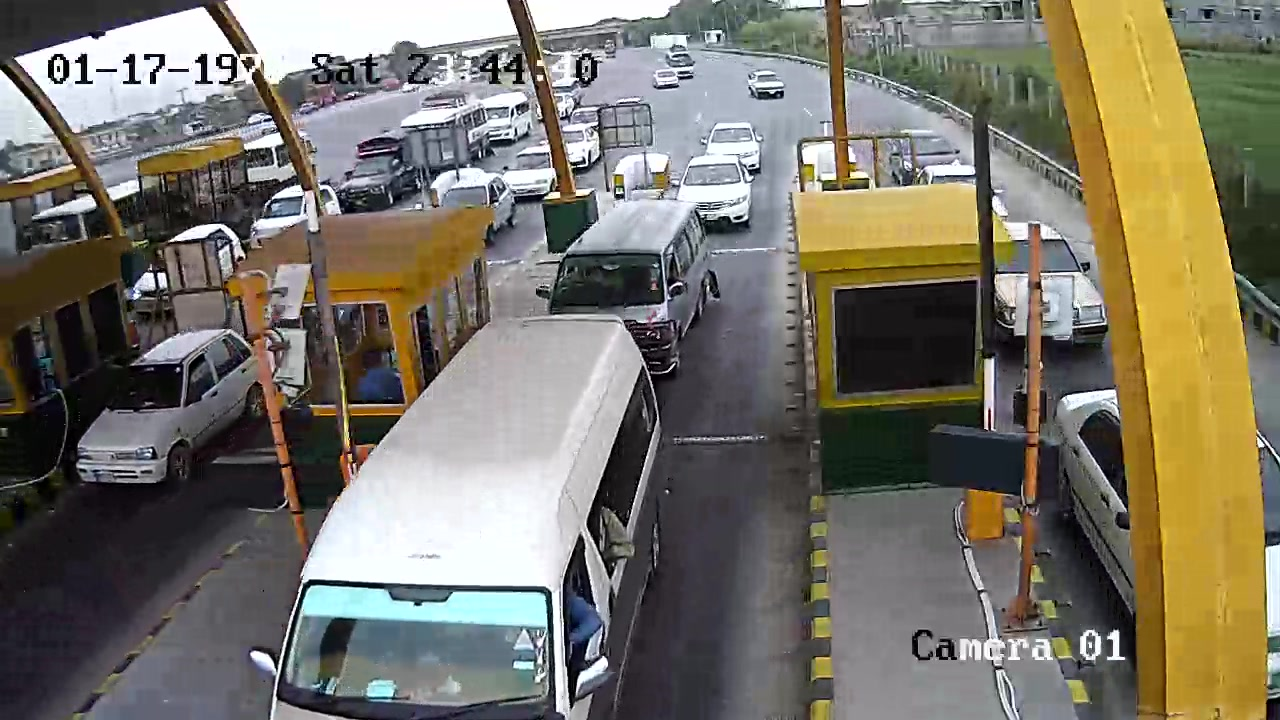F3: (255, 313, 716, 716)
